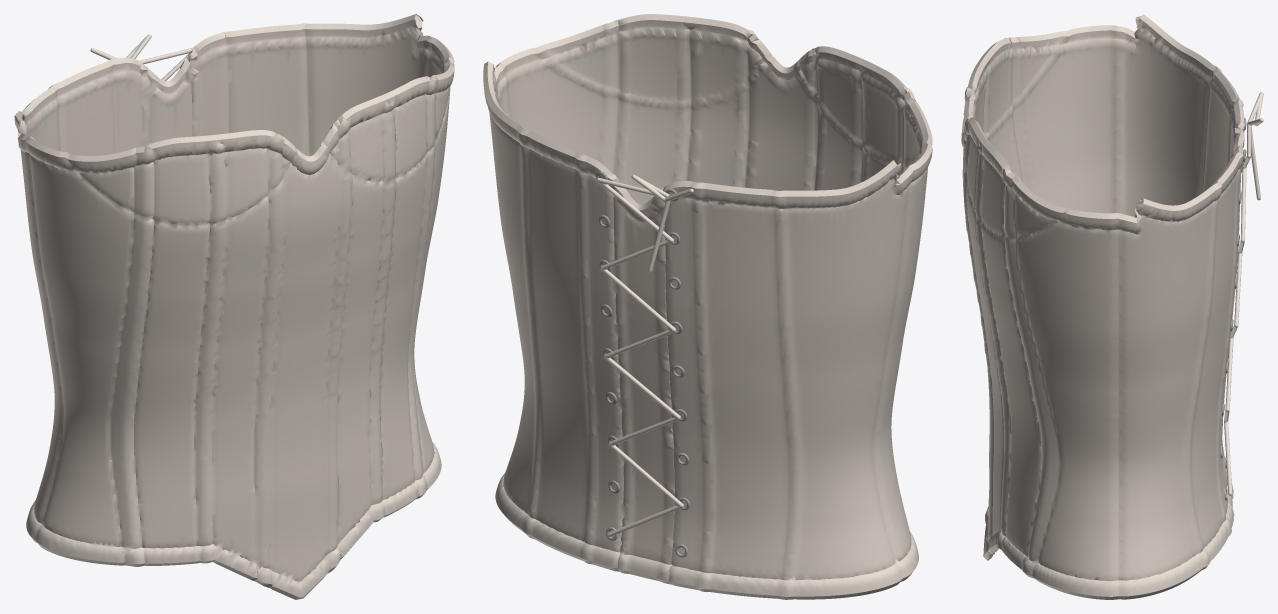
File: 06_corse_pbr.glb
The picture shows the model from 3 angles, left to right: view 1: azimuth 30°, elevation 25°; view 2: azimuth 150°, elevation 25°; view 3: azimuth 270°, elevation 25°; orthographic projection. The views are drawn at different scales.
Parts seen in each view (by area): view 1: Camiseta PBR, Cordones y adornos; view 2: Camiseta PBR, Cordones y adornos, Punteras y ojales; view 3: Camiseta PBR, Cordones y adornos.
Part boxes in pixels (x1,y1,x2,y2): Camiseta PBR: (14, 14, 454, 599); Cordones y adornos: (90, 34, 193, 81); Camiseta PBR: (483, 14, 932, 599); Cordones y adornos: (597, 174, 693, 537); Punteras y ojales: (596, 171, 690, 557); Camiseta PBR: (961, 14, 1244, 599); Cordones y adornos: (1224, 92, 1263, 495).
Size of the model in its own units: 0.3642 by 0.41 by 0.2427.
3 materials, 1 textured.
